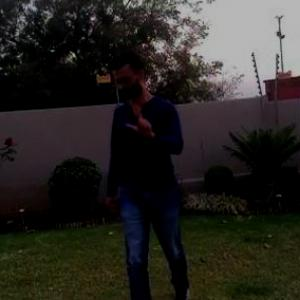land_hand: (124, 98, 160, 135)
